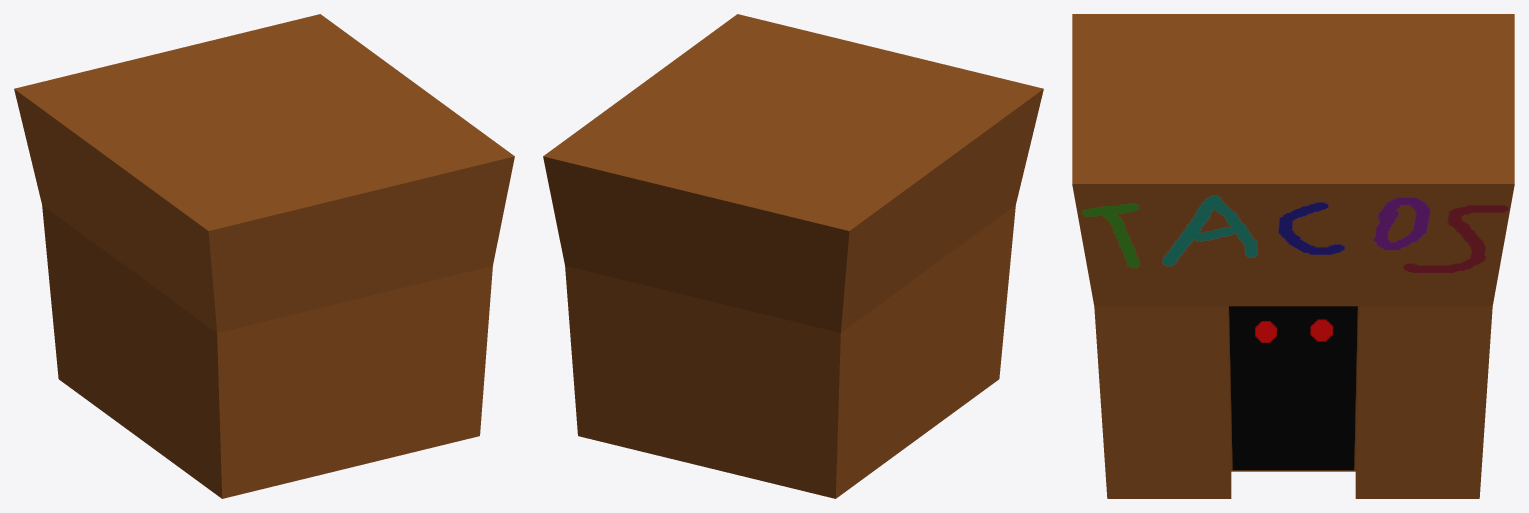
Rendered from Goal.glb.
3 views of the same model, side by side, from view 1: azimuth 30°, elevation 25°; view 2: azimuth 150°, elevation 25°; view 3: azimuth 270°, elevation 25° (orthographic). The views are drawn at different scales.
Parts seen in each view (by area): view 1: Cube; view 2: Cube; view 3: Cube.
Part boxes in pixels (box(x1,y1,x2,y2)): Cube: box(14, 14, 514, 498); Cube: box(543, 14, 1043, 498); Cube: box(1072, 14, 1514, 498).
Bounding box in the file's own units: 5.66 × 5.05 × 6.22.
Materials: 1 (1 with a texture image).
